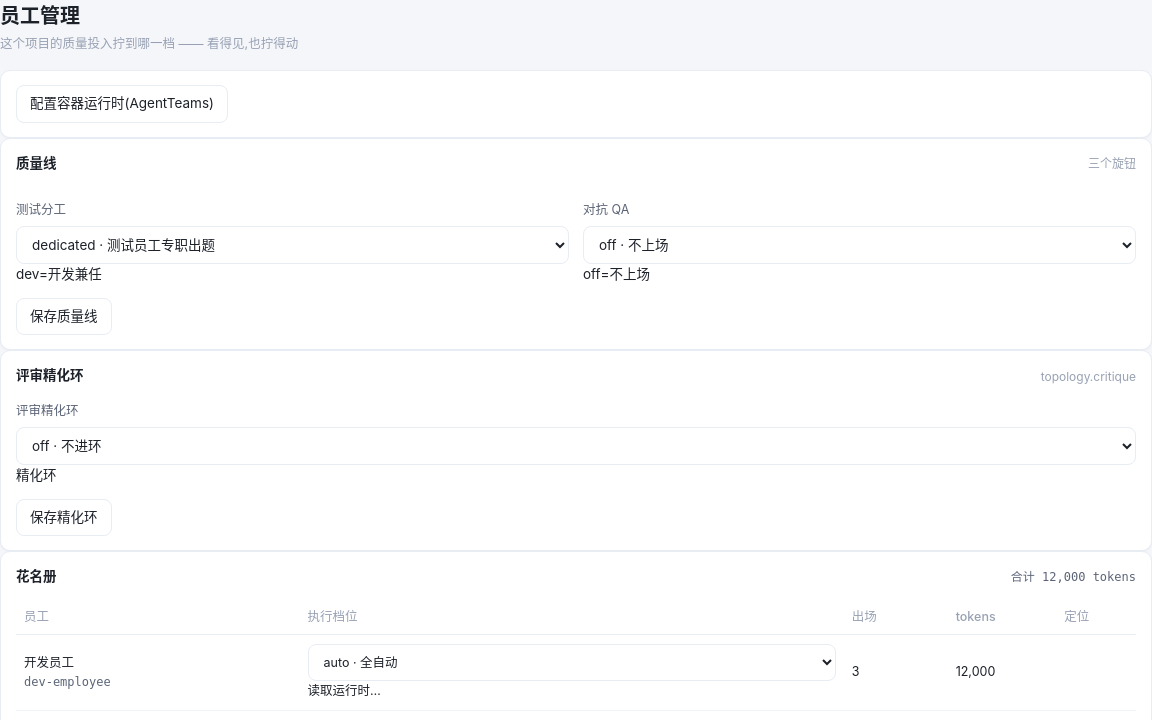
Scenario: 员工管理页 › puts the dial back when the write did not land
Select "always · 每次都上" in the dropdown labelled "对抗 QA": x=860, y=245 [583, 226, 1136, 264]
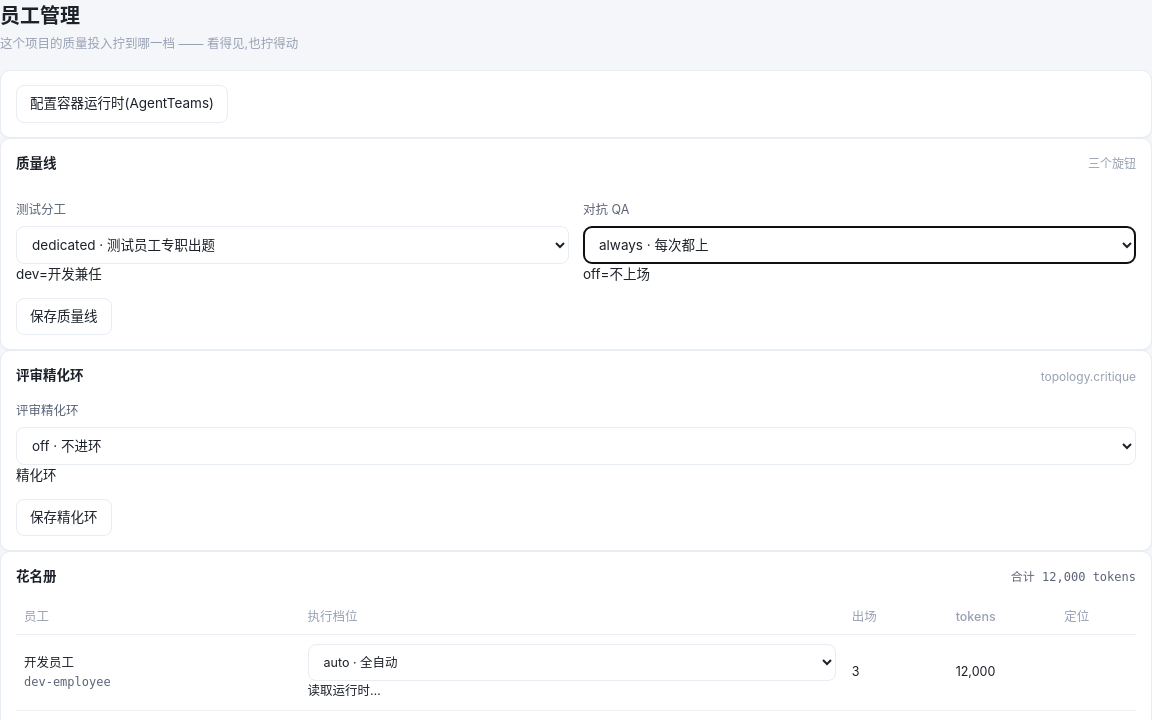
Click the button "保存质量线": x=64, y=317 [16, 298, 112, 335]
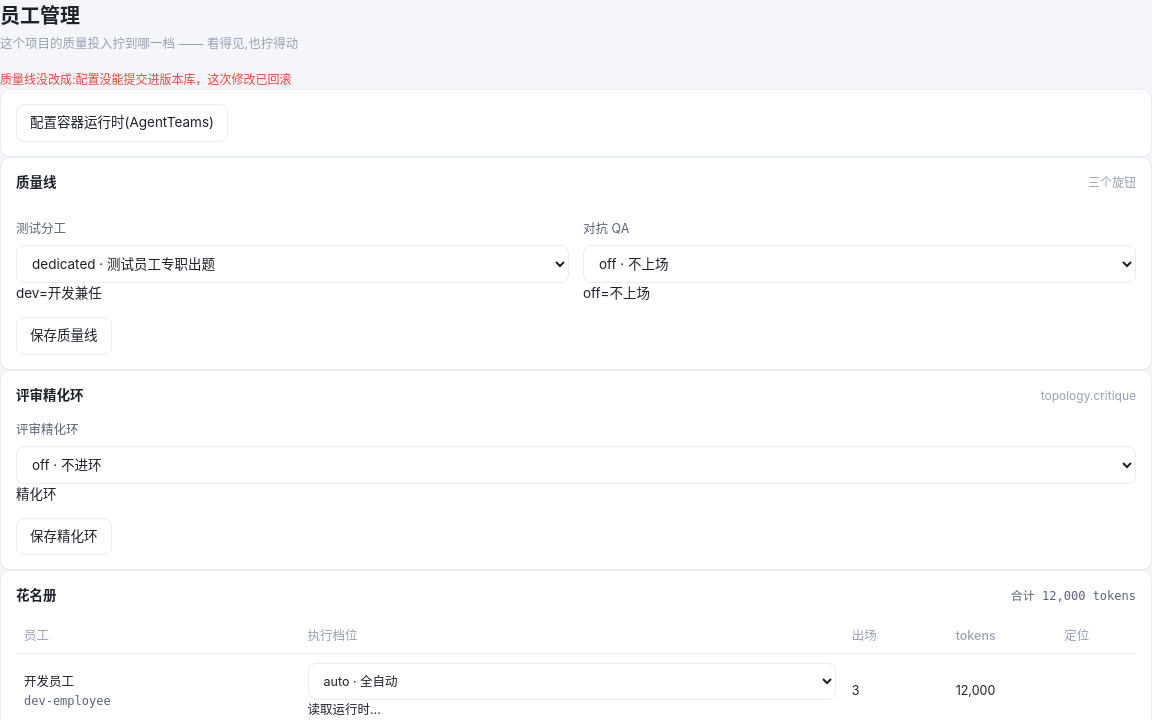
Result: the text "没改成" is shown at [0, 72, 292, 87]
